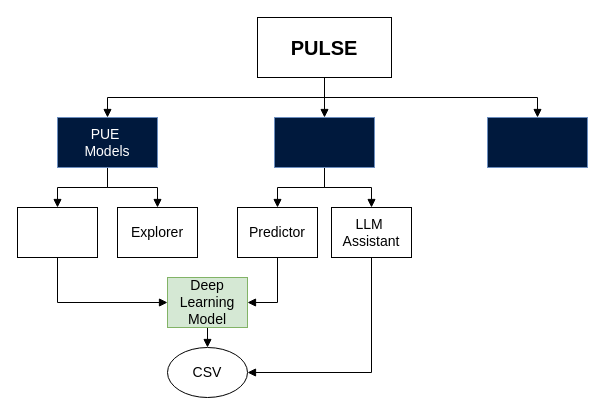
Some shapes in this 605 by 415 pixel diagram are drawn without their labels. The box of each missing label's shape, as (x1, y1, x2, y2) in pixels:
Generator: (16, 206, 98, 258)
PUE Monitoring: (274, 116, 374, 168)
Settings: (486, 116, 588, 168)
